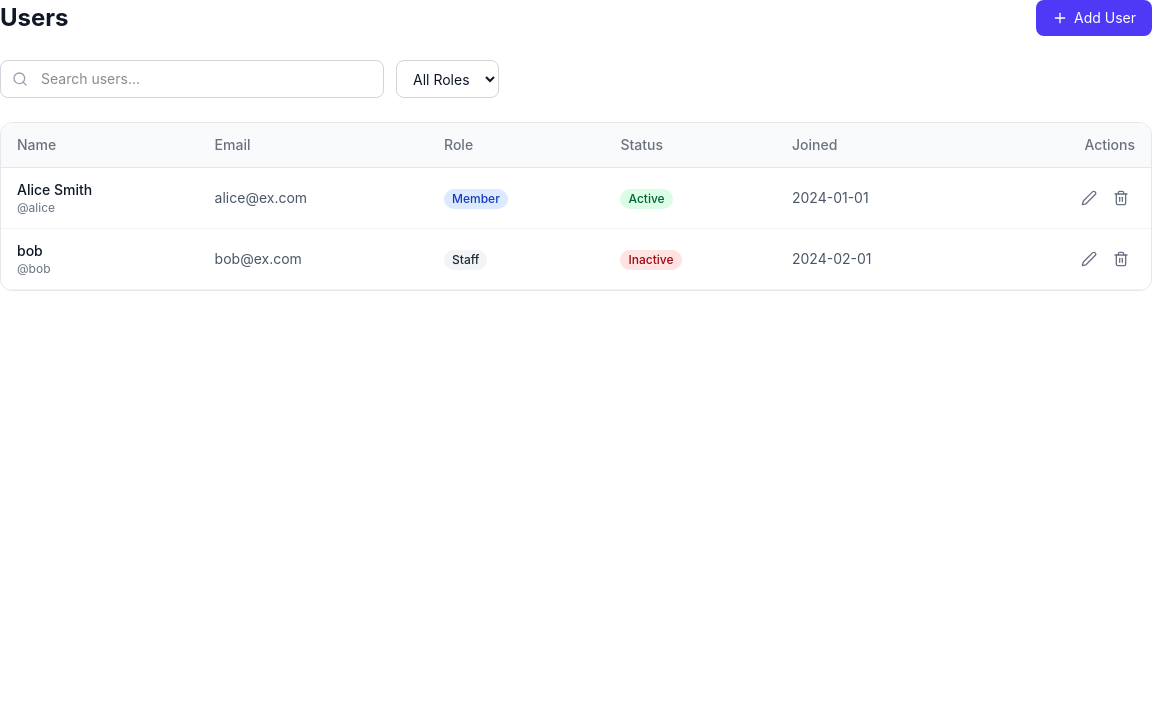
Test: UsersPage › opens edit dialog with user data
This screenshot has width=1152, height=720.
Check: the text "alice@ex.com" is shown, box x1=199 y1=168 x2=428 y2=228
Click the 2nd button.
click(1089, 198)  # box x1=1075 y1=184 x2=1103 y2=212
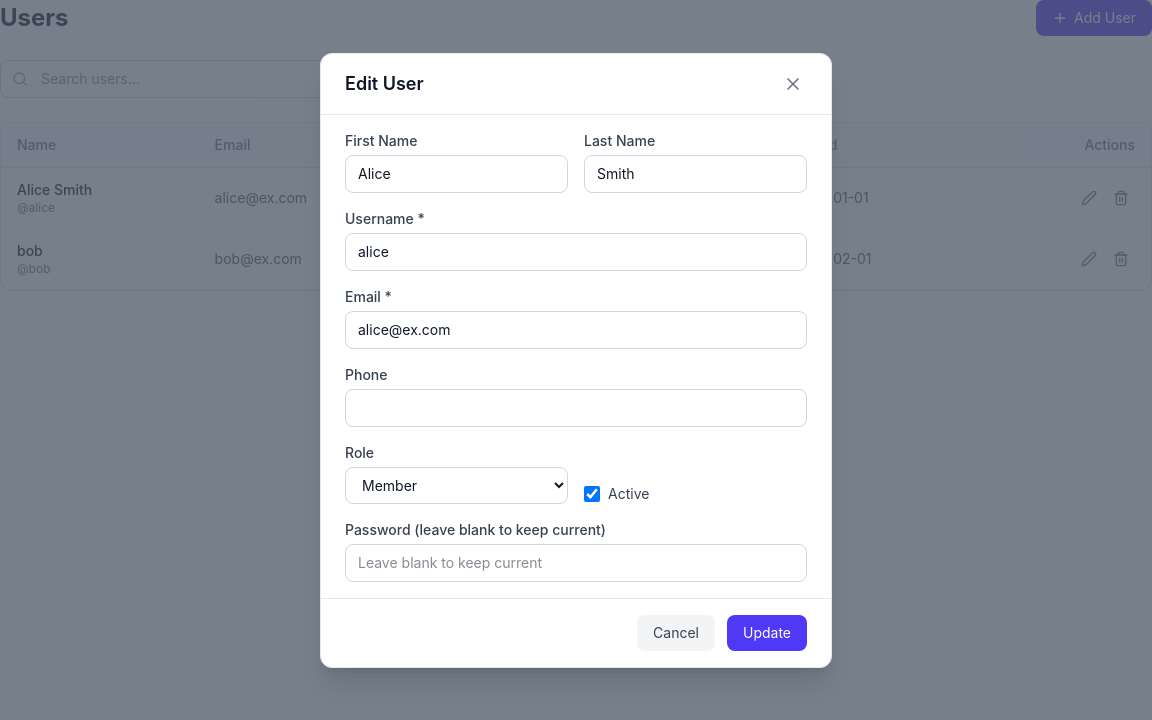
Check: the heading "Edit User" is shown, box x1=345 y1=70 x2=424 y2=98
Check: the button "Update" is shown, box x1=727 y1=614 x2=807 y2=650
